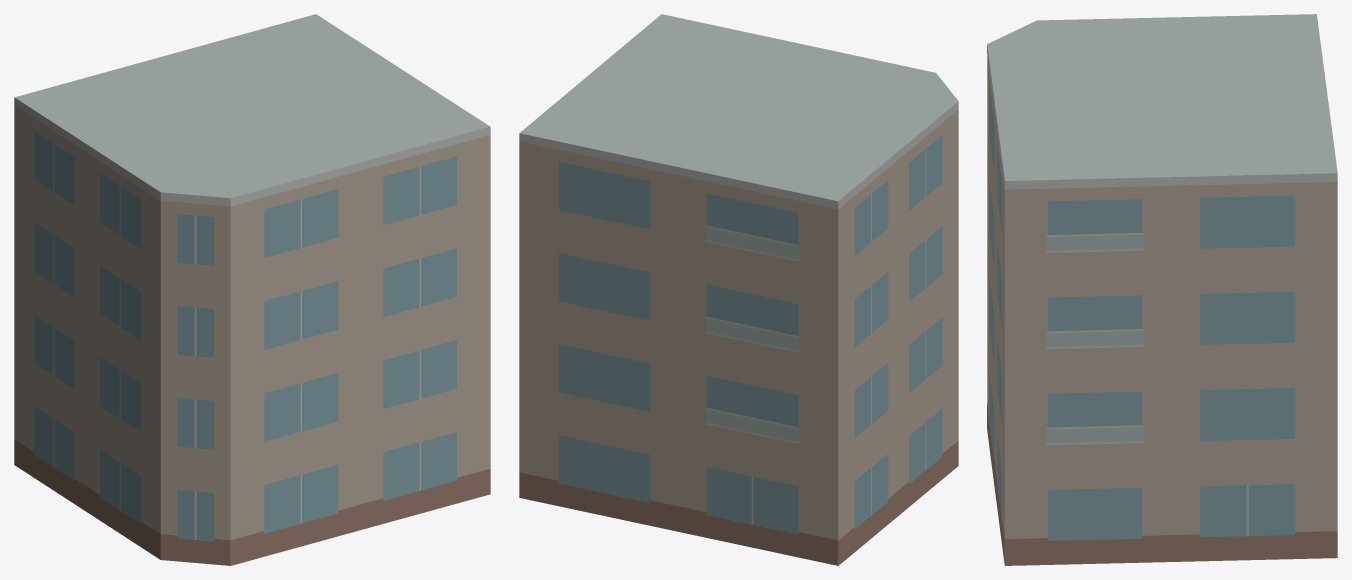
The model's file is survey-upis-32697547.glb.
3 views of the same model, side by side, from view 1: azimuth 30°, elevation 25°; view 2: azimuth 150°, elevation 25°; view 3: azimuth 270°, elevation 25° (orthographic). The views are drawn at different scales.
Parts seen in each view (by area): view 1: survey-upis-32697547.tmp; view 2: survey-upis-32697547.tmp; view 3: survey-upis-32697547.tmp.
Boxes of the visible parts, x1,y1,x2,y2 form: survey-upis-32697547.tmp: [14, 14, 490, 565]; survey-upis-32697547.tmp: [519, 14, 958, 565]; survey-upis-32697547.tmp: [987, 14, 1337, 565].
Bounding box in the file's own units: 10.16 × 10.9 × 9.01.
